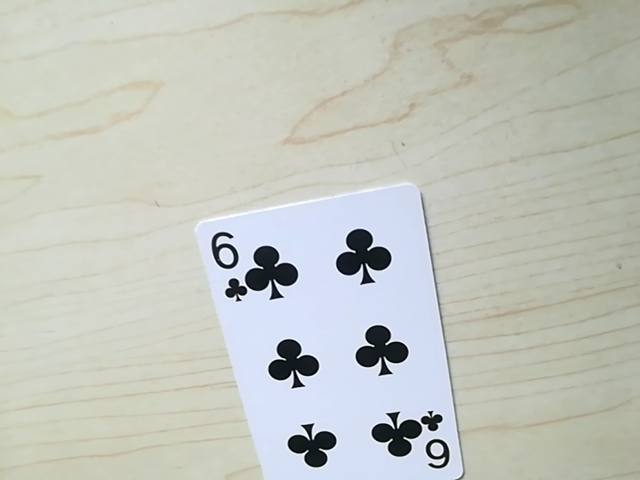mh 6: (209, 227, 245, 301), (419, 408, 458, 470)
